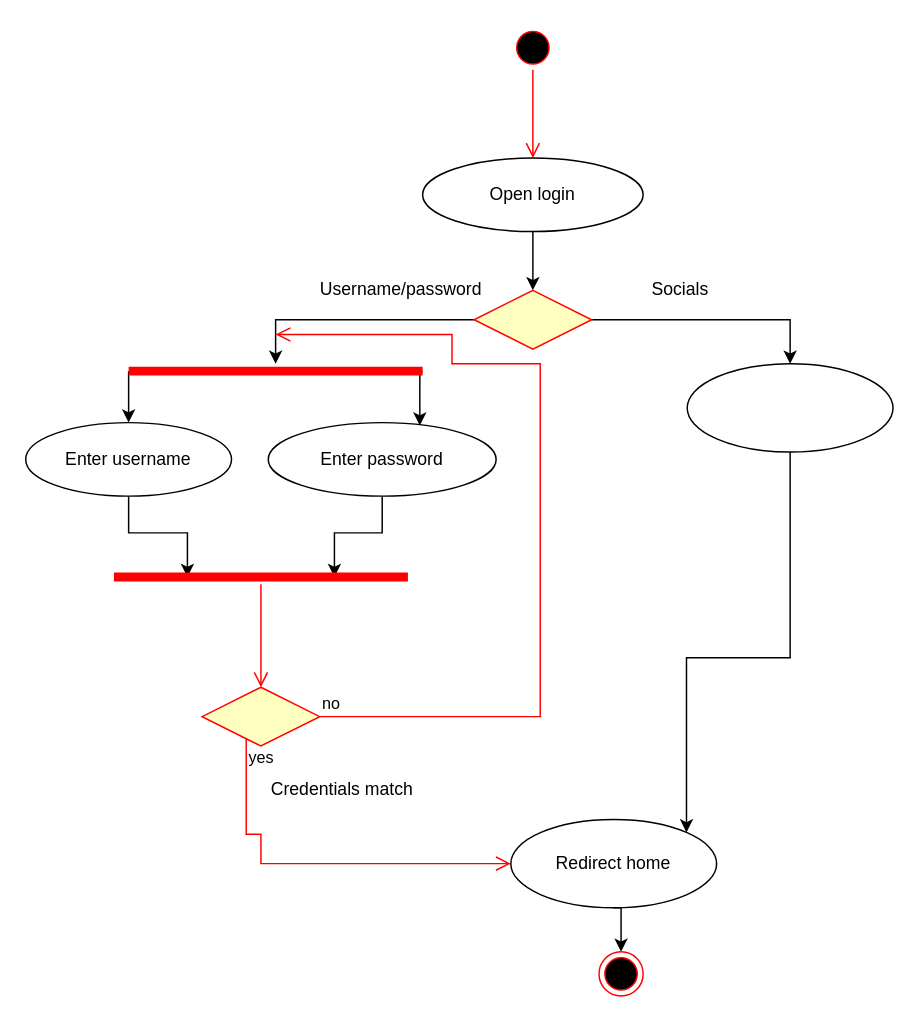
Some shapes in this 919 by 1022 pixel diagram are drawn without their labels. Here are the shapes that lost their labels. From the top down, the centre of each, then its label:
At (789,407): "Log in using socials".
At (260,716): "Condition".
